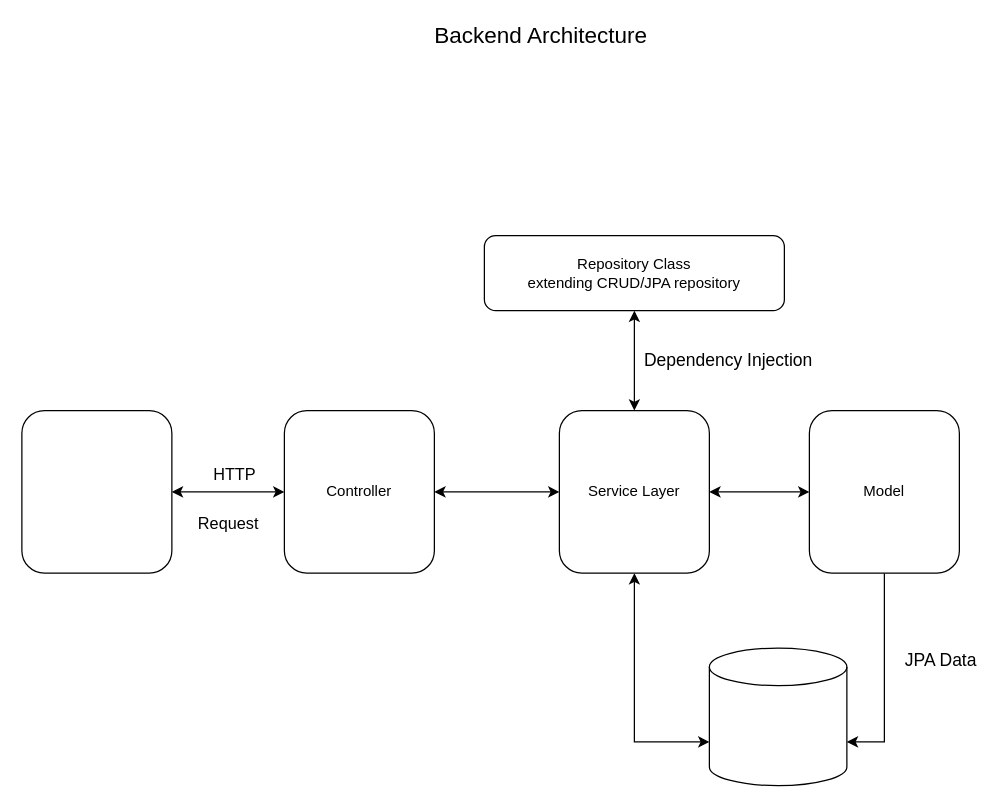
Image size: 1006x808. Some labels were removed from this diagram. Each missing label, with the box of its shape:
Client: (21, 409, 172, 573)
MySQL database: (708, 647, 847, 786)
